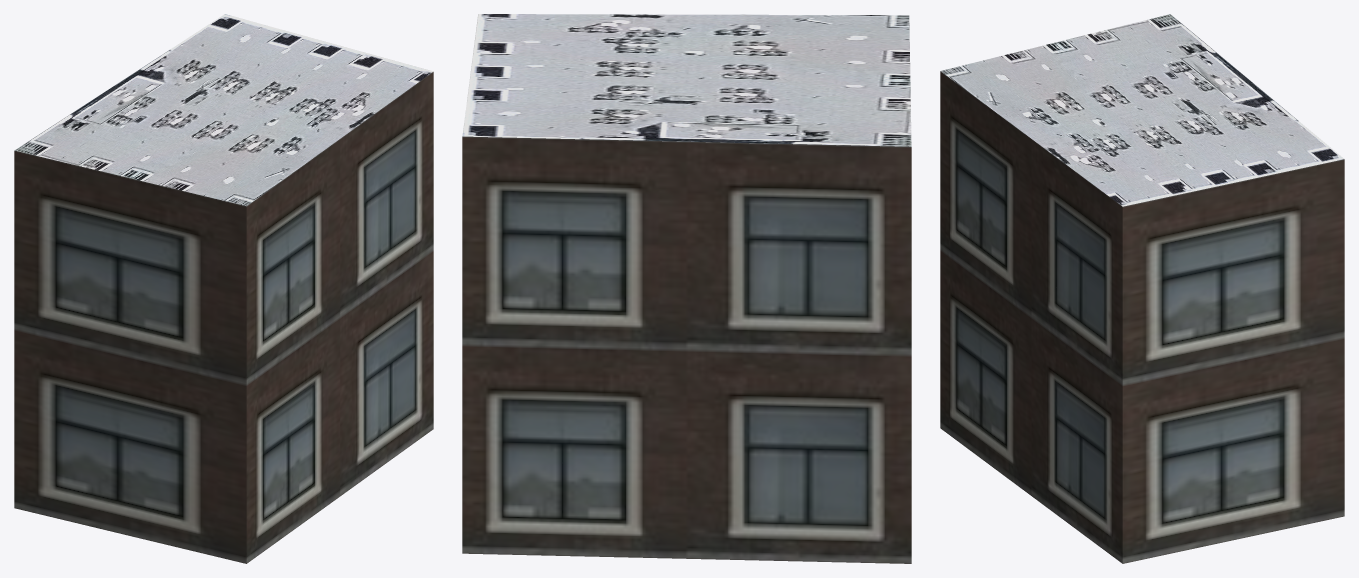
The model's file is ResTex__62.fbx.
3 views of the same model, side by side, from view 1: azimuth 30°, elevation 25°; view 2: azimuth 150°, elevation 25°; view 3: azimuth 270°, elevation 25° (orthographic). The views are drawn at different scales.
Visible parts, largest first — view 1: CityEngineMaterial_16_m, CityEngineMaterial_15_m; view 2: CityEngineMaterial_16_m, CityEngineMaterial_15_m; view 3: CityEngineMaterial_16_m, CityEngineMaterial_15_m.
Boxes of the visible parts, x1=… form: CityEngineMaterial_16_m: x1=14, y1=72, x2=433, y2=563; CityEngineMaterial_15_m: x1=14, y1=14, x2=433, y2=206; CityEngineMaterial_16_m: x1=462, y1=136, x2=911, y2=563; CityEngineMaterial_15_m: x1=462, y1=14, x2=911, y2=146; CityEngineMaterial_16_m: x1=940, y1=71, x2=1344, y2=563; CityEngineMaterial_15_m: x1=940, y1=14, x2=1344, y2=206.
Size of the model in its own units: 6.94 by 6 by 6.16.
Materials: 2 (2 with a texture image).
